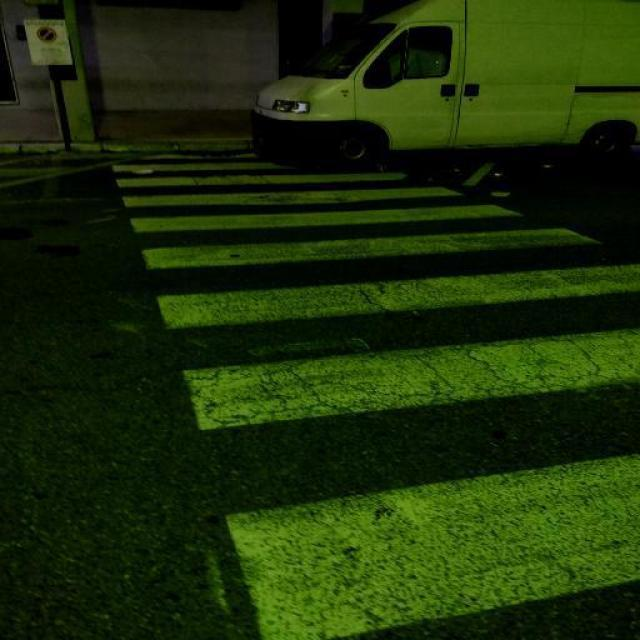crosswalk: (103, 151, 640, 638)
